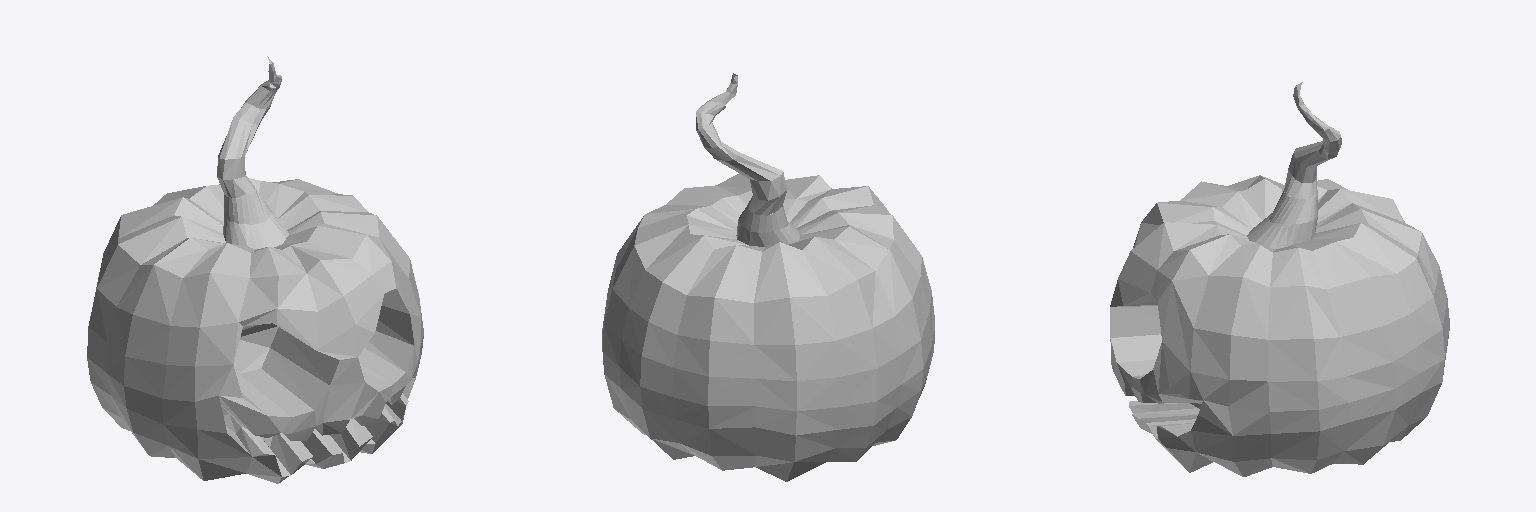
File: BöserPumpkin_LP.obj
The picture shows the model from 3 angles: view 1: azimuth 30°, elevation 25°; view 2: azimuth 150°, elevation 25°; view 3: azimuth 270°, elevation 25°; orthographic projection.
Visible parts, largest first — view 1: BöserPumpkin_LP:001; view 2: BöserPumpkin_LP:001; view 3: BöserPumpkin_LP:001.
Boxes of the visible parts, box(x1,y1,x2,y2) form: BöserPumpkin_LP:001: box(87, 56, 423, 483); BöserPumpkin_LP:001: box(602, 73, 934, 481); BöserPumpkin_LP:001: box(1110, 82, 1449, 476).
Bounding box in the file's own units: 2.66 × 3.29 × 2.73.